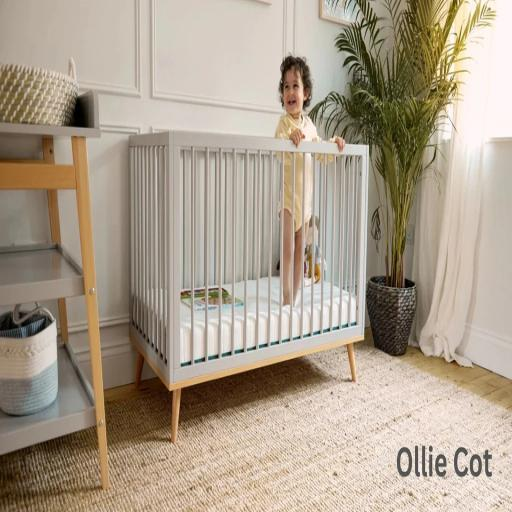baby: (278, 152, 312, 306)
crib: (129, 132, 368, 441)
